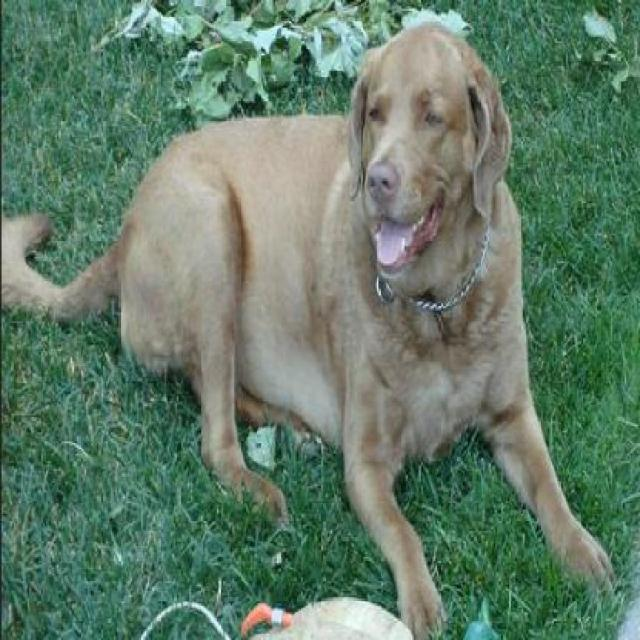Dog: (0, 16, 614, 638)
